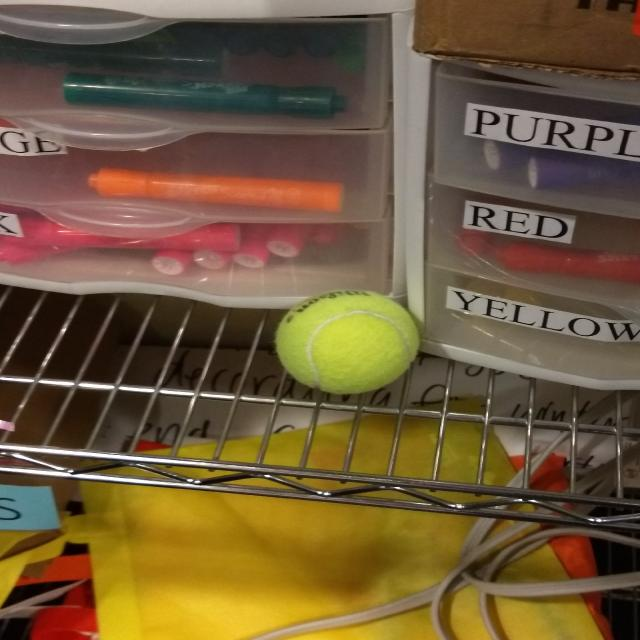Tennis-Ball: (278, 291, 422, 393)
